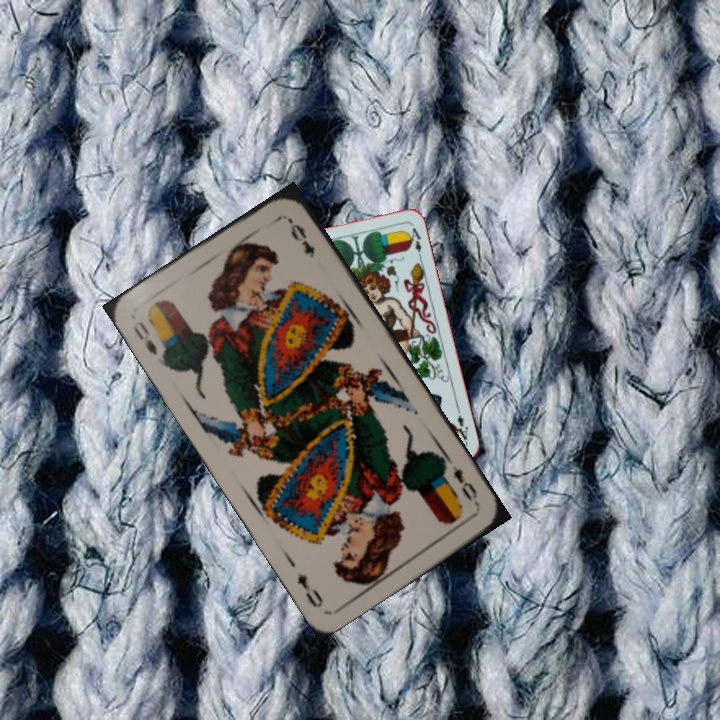EA: (449, 404, 471, 444)
EO: (448, 461, 482, 509), (128, 317, 160, 358)
